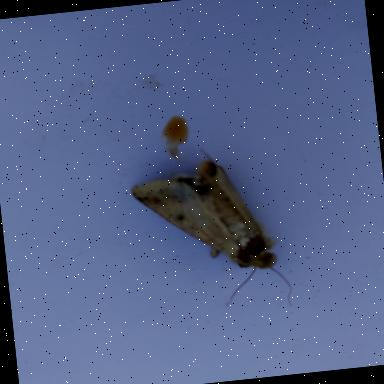abw: (126, 140, 296, 324)
